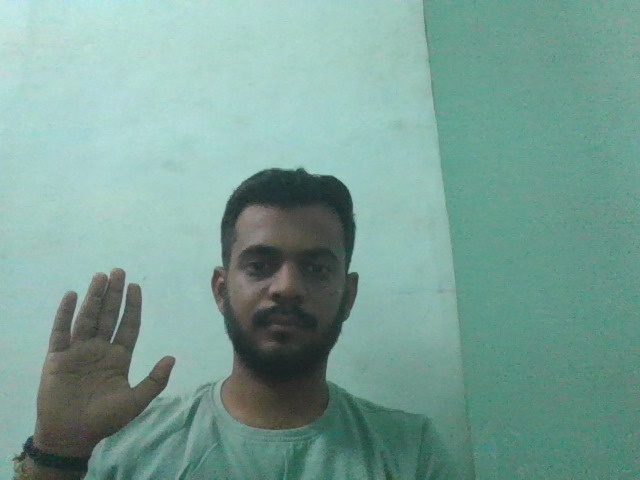hello: (27, 255, 190, 448)
